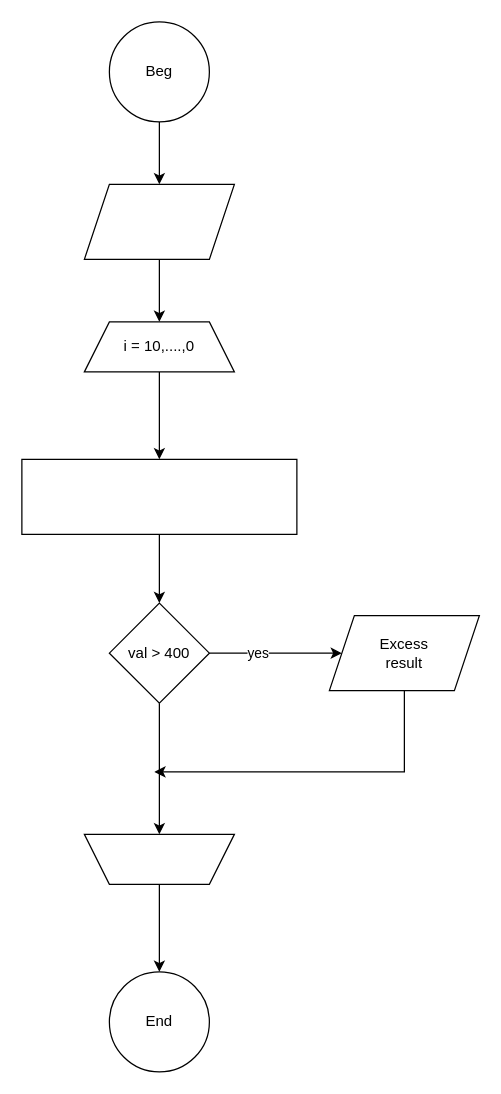
Some shapes in this 501 by 1094 pixel diagram are drawn without their labels. The box of each missing label's shape, as (x1, y1, x2, y2) in pixels:
Input 11 values to a n: (83, 183, 234, 259)
val = sqrt(|a i |) + 5*a i **3;: (21, 458, 297, 534)
